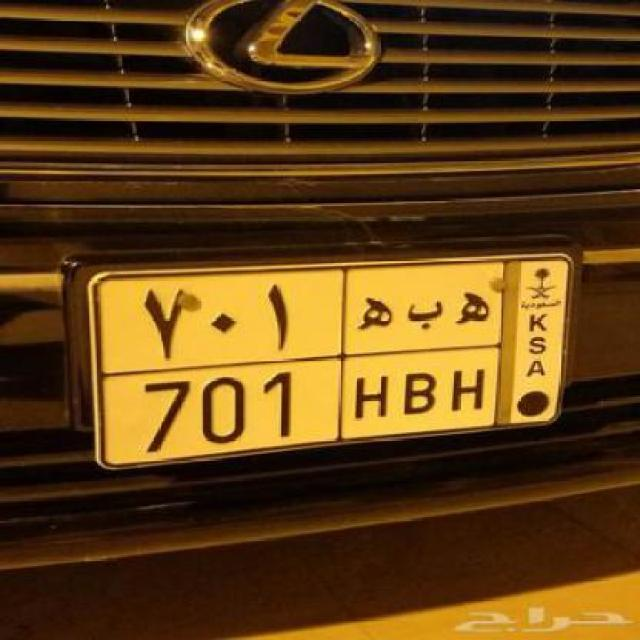license_plate: (83, 251, 580, 474)
